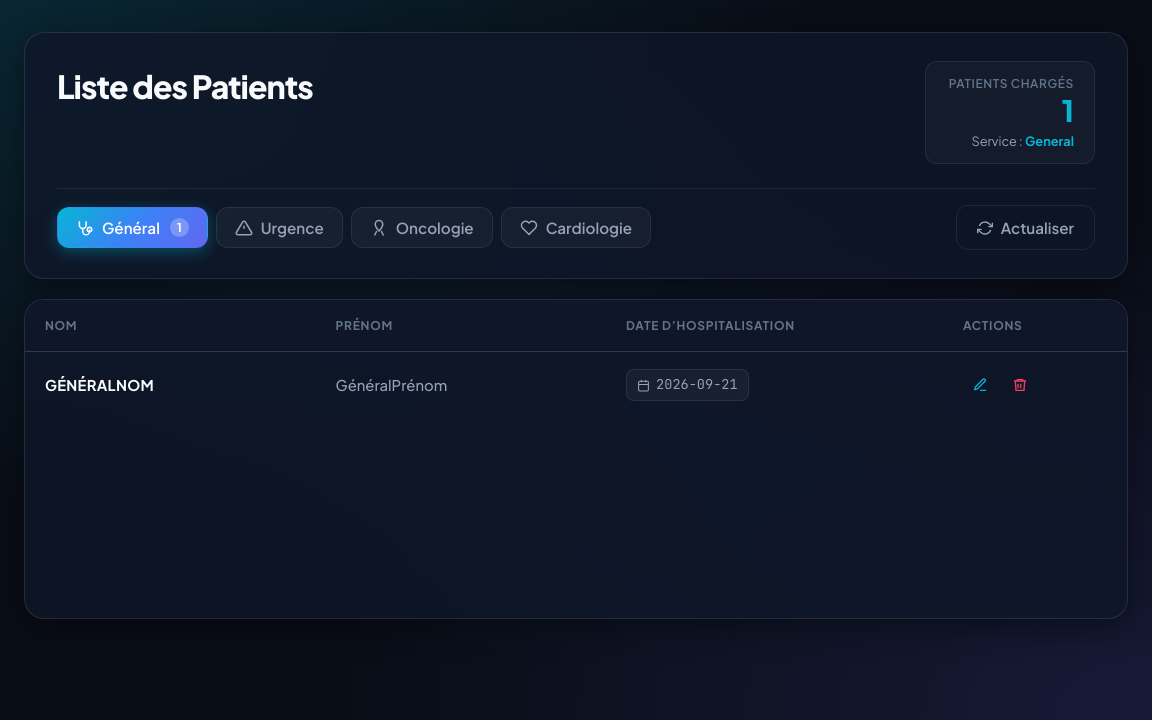
Test: PatientsView service tabs › oncologie tab selects the service and renders its patient data
Click the tab with id "tab-oncologie". click: (422, 228)
box: [351,207,493,248]
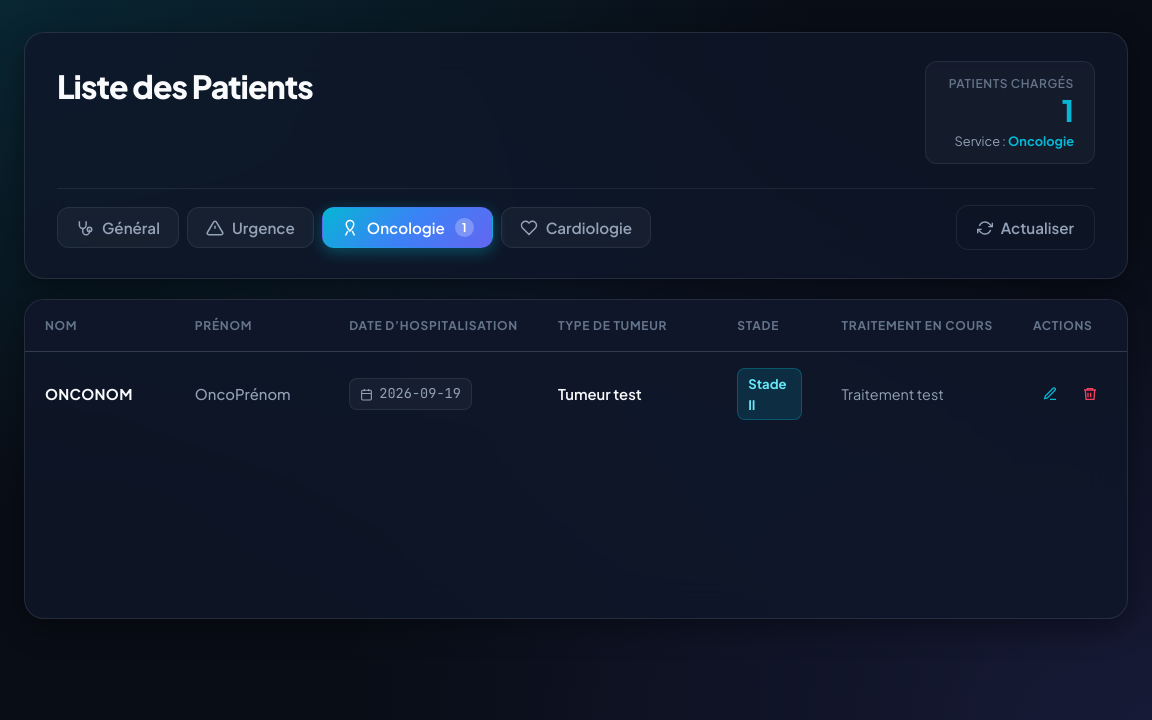
Expected: the tab with id "tab-oncologie" shows "Oncologie", [322,207,493,248]
Expected: the table shows "OncoPrénom", [195,384,291,402]
Expected: the table shows "Tumeur test", [558,384,642,402]
